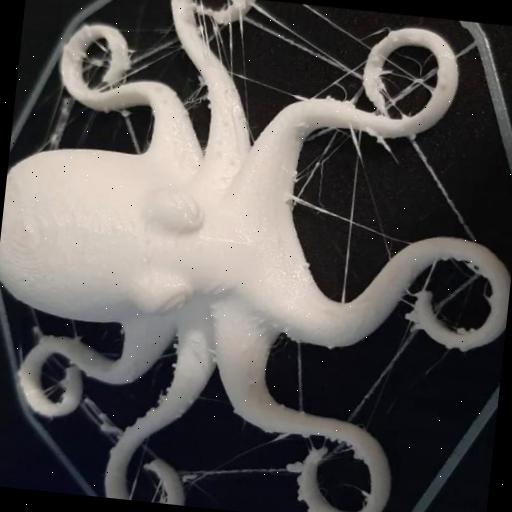stringing: (242, 0, 358, 83), (292, 135, 342, 211), (179, 461, 302, 488), (197, 16, 242, 56), (83, 401, 118, 438), (390, 66, 432, 88), (388, 81, 414, 107)
